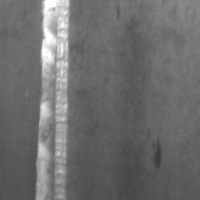inclusion: (148, 136, 165, 172)
scratches: (33, 0, 72, 199)
